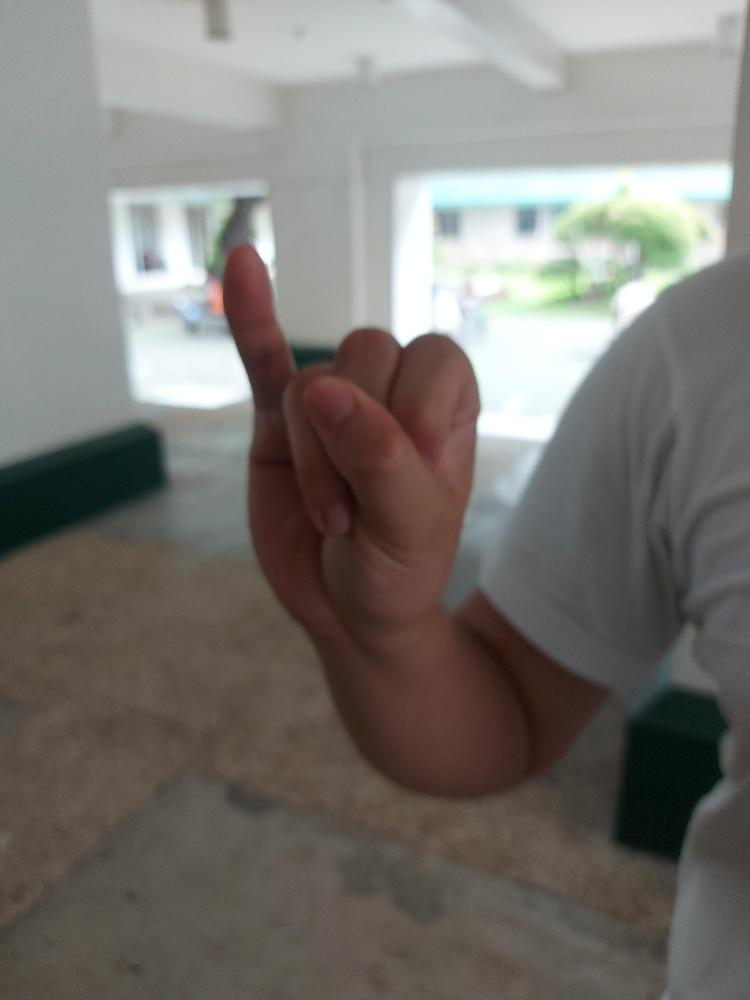i: (215, 234, 483, 635)
